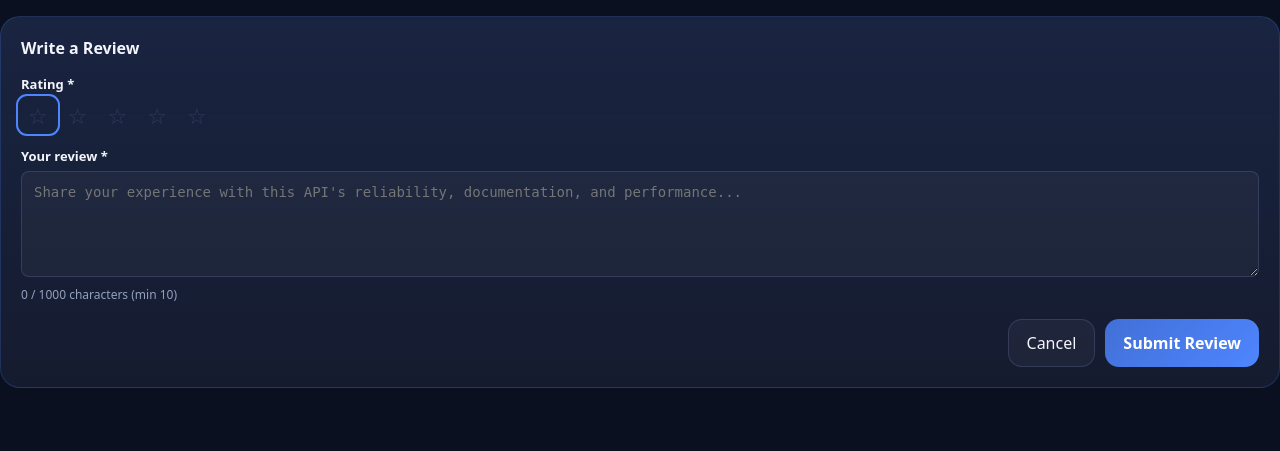
Test: ReviewForm › validates missing rating and empty review text
The image size is (1280, 451).
Click the button "Submit Review". click: coordinates (1182, 343)
box: [1105, 319, 1259, 367]
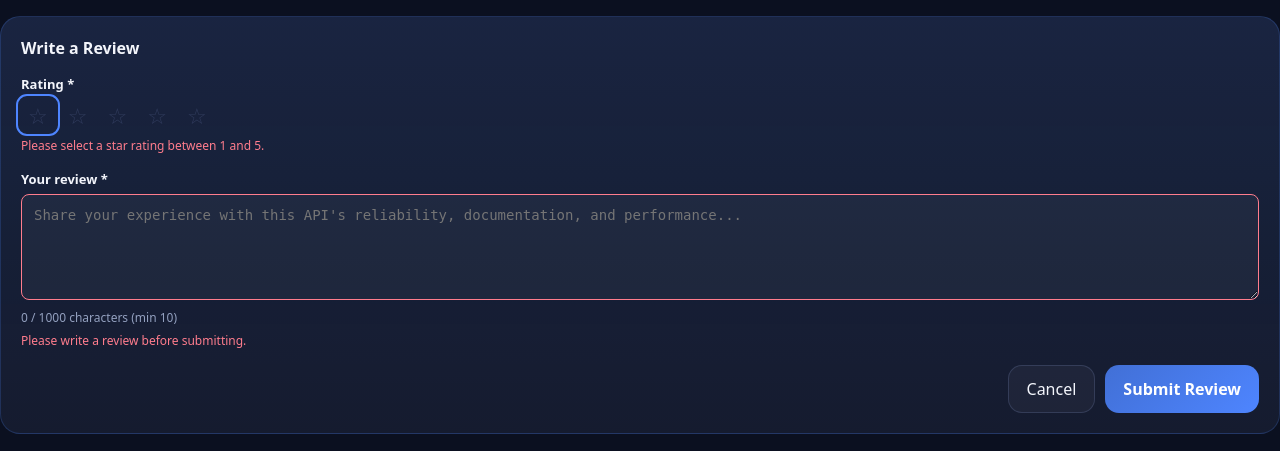
Now the text "Please write a review before submitting." is shown, box [21, 332, 246, 349]
